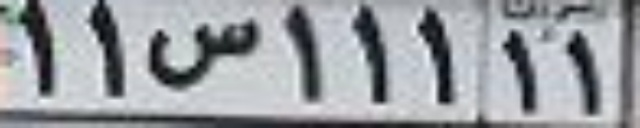1: (281, 4, 325, 102), (15, 0, 57, 97), (347, 3, 387, 103), (415, 5, 455, 104), (88, 0, 126, 97), (563, 28, 602, 115), (502, 27, 540, 113)
sin: (144, 15, 259, 89)
